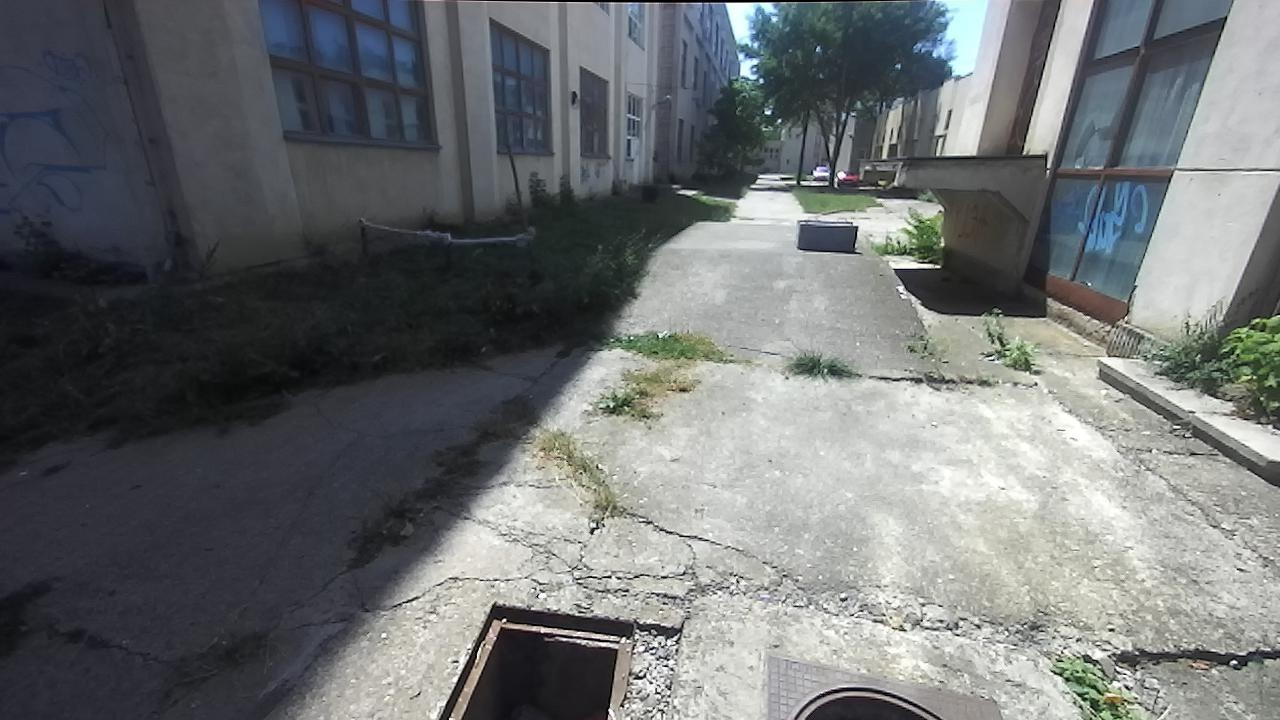drain: (432, 600, 639, 720), (772, 682, 953, 719)
